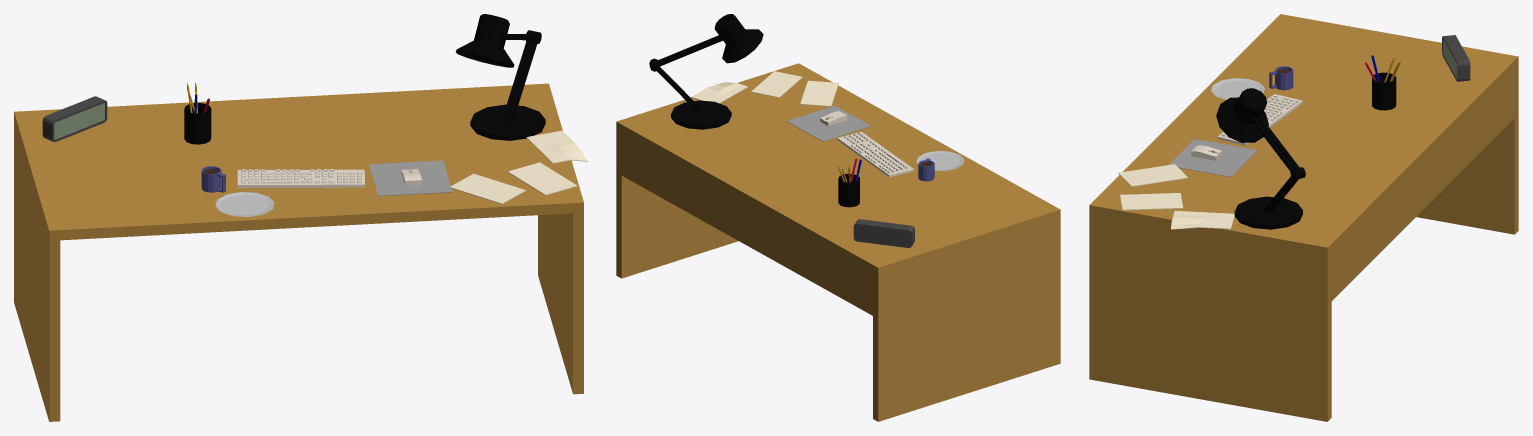
Rendered from стол и всякое на нём.fbx.
3 views of the same model, side by side, from view 1: azimuth 30°, elevation 25°; view 2: azimuth 150°, elevation 25°; view 3: azimuth 270°, elevation 25° (orthographic). The views are drawn at different scales.
Parts seen in each view (by area): view 1: Cube.016, Plane.002, Cylinder.005, Cube.024, Cylinder.004, Cube.029, Cube.021, Cube.022, Cube.023, Cylinder.025, Cylinder.015, Cube.014 (+2 smaller); view 2: Cube.016, Cylinder.004, Cube.024, Plane.002, Cylinder.005, Cube.029, Cube.021, Cube.023, Cube.022, Cylinder.015, Cylinder.025, Cube.015 (+1 smaller); view 3: Cube.016, Cylinder.004, Plane.002, Cylinder.005, Cube.022, Cube.023, Cube.021, Cube.024, Cylinder.015, Cylinder.025, Cube.015, Cube.029 (+2 smaller).
Boxes of the visible parts, x1,y1,x2,y2 form: Cube.016: (14, 83, 583, 421); Plane.002: (369, 160, 452, 196); Cylinder.005: (470, 104, 545, 140); Cube.024: (42, 96, 107, 142); Cylinder.004: (456, 14, 514, 67); Cube.029: (237, 169, 364, 187); Cube.021: (449, 173, 525, 204); Cube.022: (526, 130, 587, 163); Cube.023: (508, 162, 577, 195); Cylinder.025: (215, 192, 274, 216); Cylinder.015: (184, 103, 211, 144); Cube.014: (501, 40, 537, 122); Cube.016: (616, 63, 1060, 421); Cylinder.004: (714, 14, 763, 63); Cube.024: (853, 219, 914, 247); Plane.002: (786, 105, 871, 141); Cylinder.005: (671, 100, 731, 129); Cube.029: (837, 132, 913, 177); Cube.021: (800, 80, 838, 106); Cube.023: (751, 71, 802, 97); Cube.022: (691, 82, 747, 103); Cylinder.015: (838, 173, 859, 207); Cylinder.025: (916, 151, 964, 170); Cube.015: (658, 35, 722, 66); Cube.016: (1089, 14, 1518, 421); Cylinder.004: (1216, 88, 1268, 142); Plane.002: (1169, 139, 1257, 177); Cylinder.005: (1234, 196, 1302, 229); Cube.022: (1171, 211, 1234, 229); Cube.023: (1120, 193, 1183, 210); Cube.021: (1118, 164, 1187, 186); Cube.024: (1442, 35, 1470, 81); Cylinder.015: (1372, 72, 1396, 110); Cylinder.025: (1211, 78, 1264, 99); Cube.015: (1251, 115, 1299, 171); Cube.029: (1217, 94, 1302, 145).
Bounding box in the file's own units: 1519 × 1957 × 1124.
